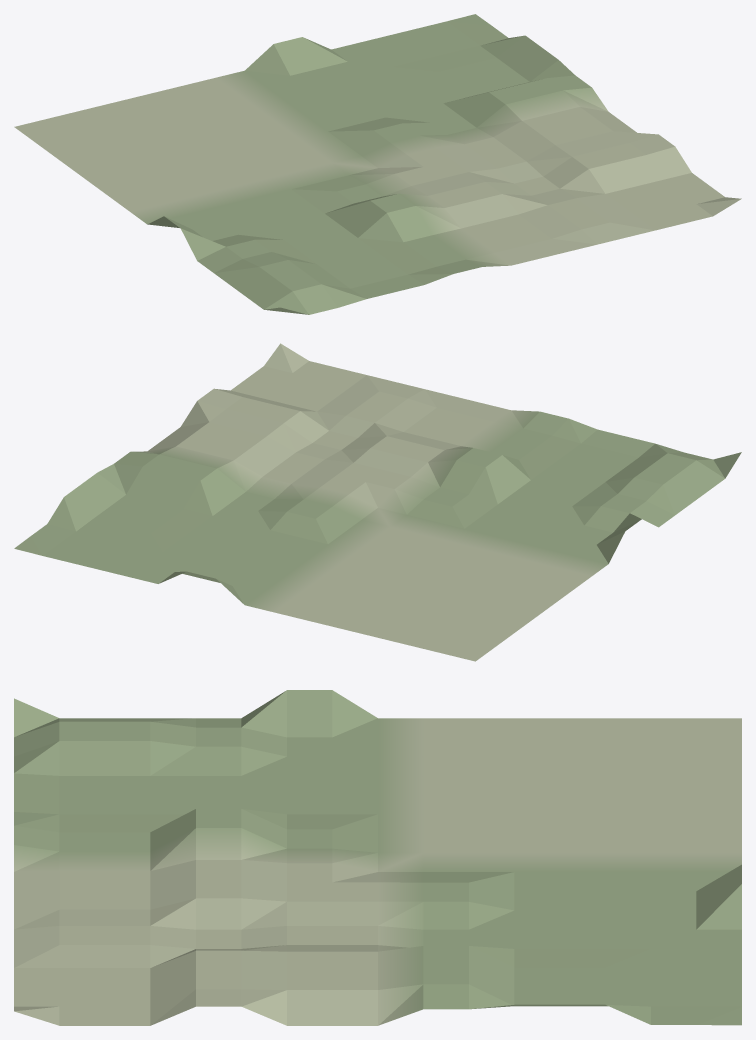
3 renders of one model, top to bottom at view 1: azimuth 30°, elevation 25°; view 2: azimuth 150°, elevation 25°; view 3: azimuth 270°, elevation 25°, orthographic. The views are drawn at different scales.
Size of the model in its own units: 32 by 1.36 by 32.
